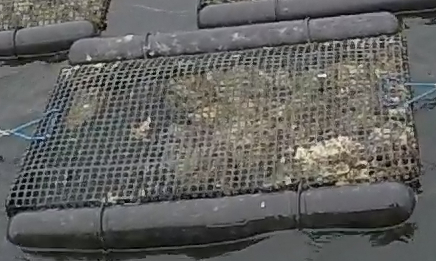bag: (5, 10, 423, 249)
